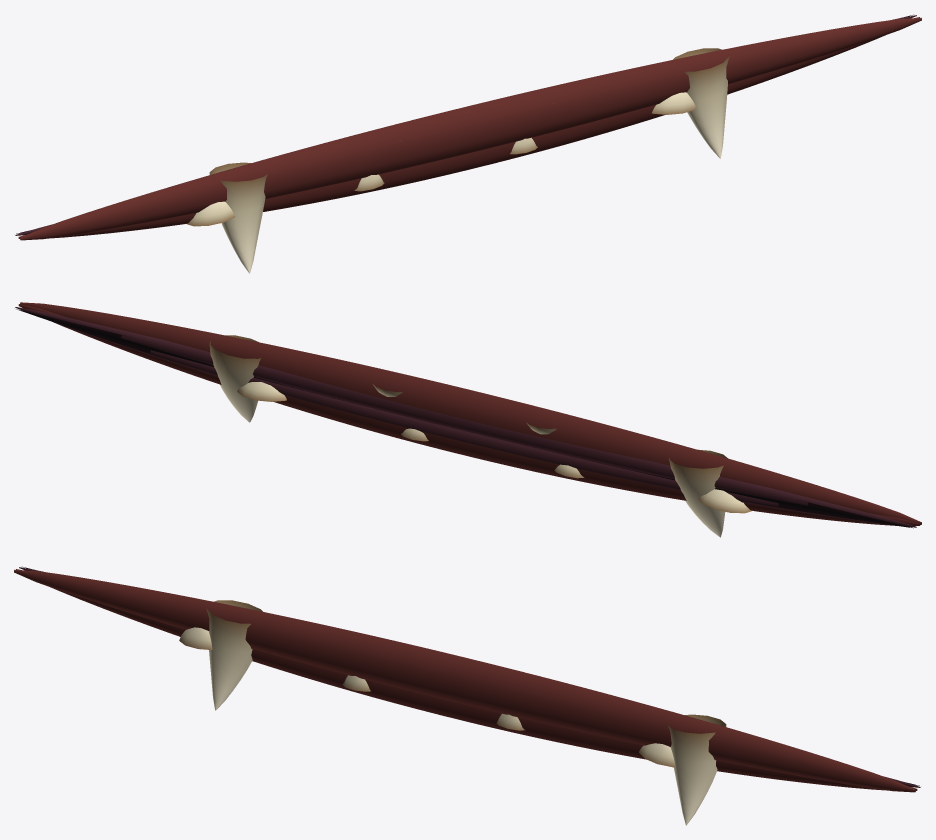
File: GXR_MOUTH_SHORT_FANGS.glb
3 renders of one model, top to bottom at view 1: azimuth 30°, elevation 25°; view 2: azimuth 150°, elevation 25°; view 3: azimuth 330°, elevation 25°, orthographic.
Visible parts, largest first — view 1: UpperLip, LowerLip, Tooth_0_3, Tooth_0_0, Tooth_1_0, Tooth_1_3; view 2: UpperLip, UpperGum, LowerLip, LowerGum, OralCavity, Tooth_0_0, Tooth_0_3, Tooth_1_0, Tooth_1_3; view 3: UpperLip, LowerLip, Tooth_0_3, Tooth_0_0, Tooth_1_3, Tooth_1_0.
Part boxes in pixels (x1,y1,x2,y2): UpperLip: (20, 17, 921, 240); LowerLip: (18, 17, 919, 238); Tooth_0_3: (673, 48, 729, 158); Tooth_0_0: (209, 162, 267, 273); Tooth_1_0: (186, 201, 234, 226); Tooth_1_3: (652, 92, 696, 114); UpperLip: (20, 302, 921, 524); UpperGum: (15, 307, 916, 527); LowerLip: (18, 304, 920, 525); LowerGum: (18, 308, 916, 527); OralCavity: (16, 309, 913, 528); Tooth_0_0: (669, 449, 727, 537); Tooth_0_3: (209, 335, 261, 422); Tooth_1_0: (698, 489, 752, 513); Tooth_1_3: (237, 382, 286, 401); UpperLip: (14, 569, 915, 792); LowerLip: (16, 569, 917, 790); Tooth_0_3: (668, 714, 726, 825); Tooth_0_0: (206, 600, 262, 710); Tooth_1_3: (638, 743, 675, 767); Tooth_1_0: (179, 627, 212, 650).
Bounding box in the file's own units: 0.3193 × 0.0339 × 0.0167.
